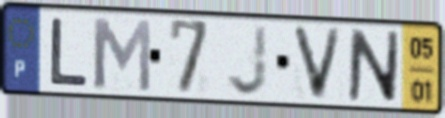7: (167, 16, 212, 98)
J: (225, 22, 270, 99)
L: (47, 15, 91, 89)
M: (88, 14, 154, 95)
N: (345, 26, 402, 106)
V: (289, 23, 346, 104)
